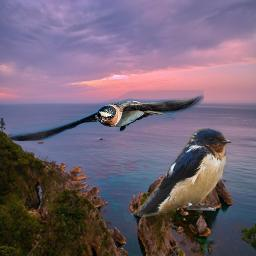Swallow: (7, 90, 204, 141), (131, 127, 233, 217)
